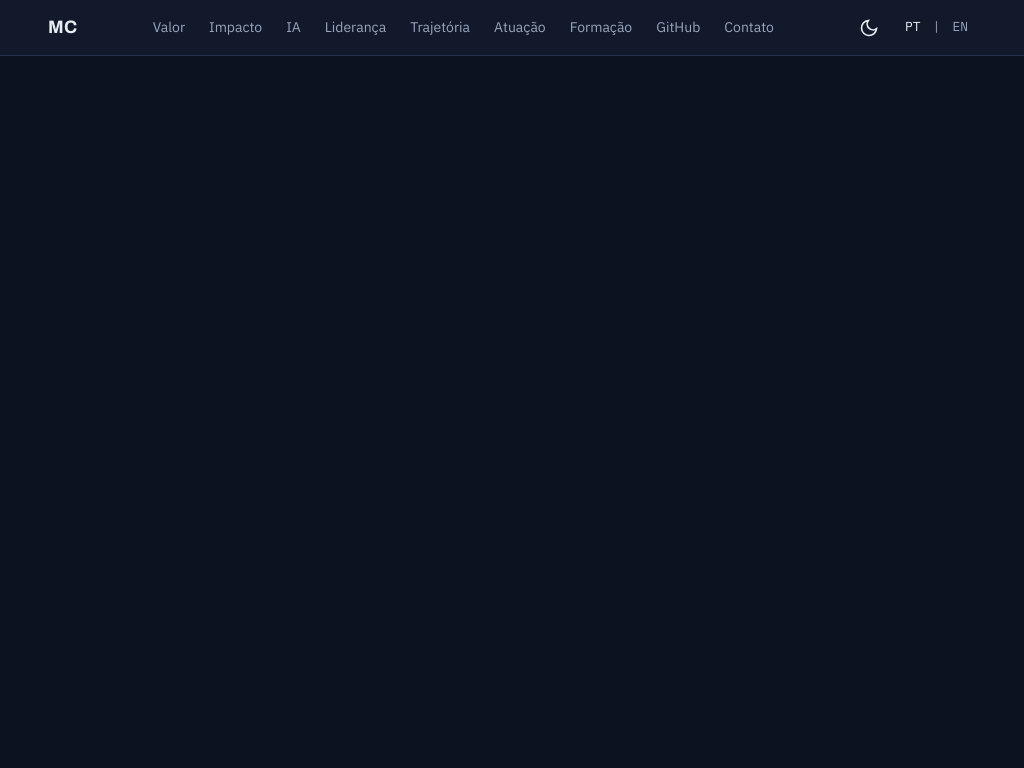
Test: Header › exposes theme and language toggles that are actually usable
Click the button named "Alternar tema": (869, 28) [849,8,889,48]
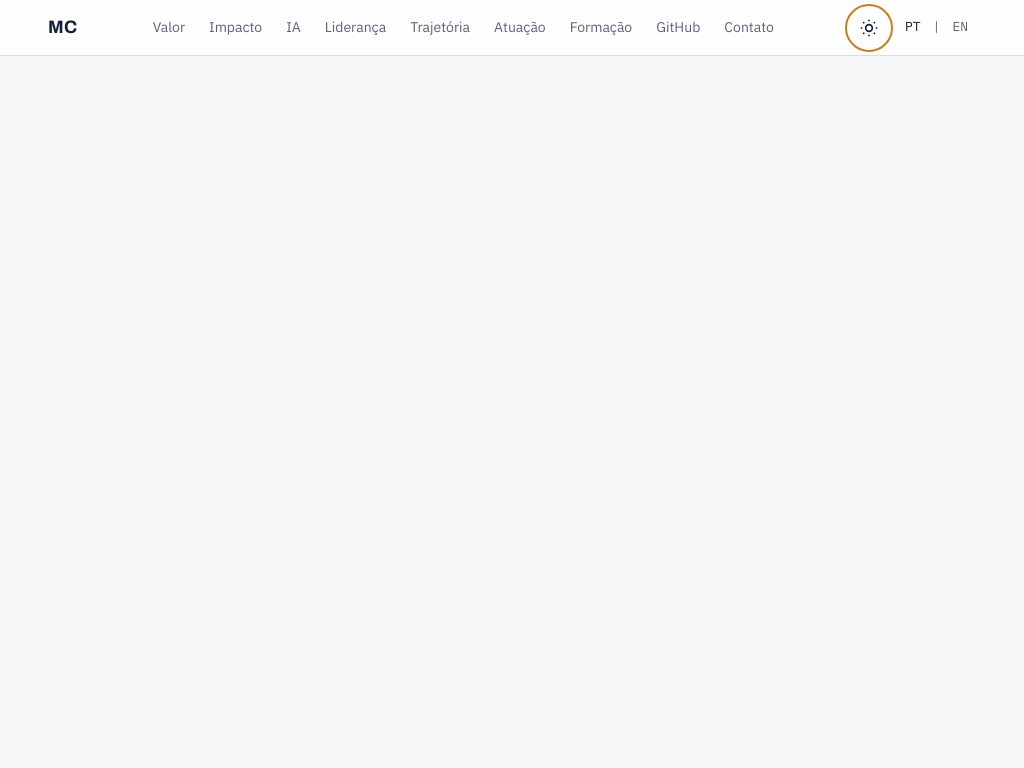
expect the button named "Alternar tema" is not pressed: met, box [849,8,889,48]
